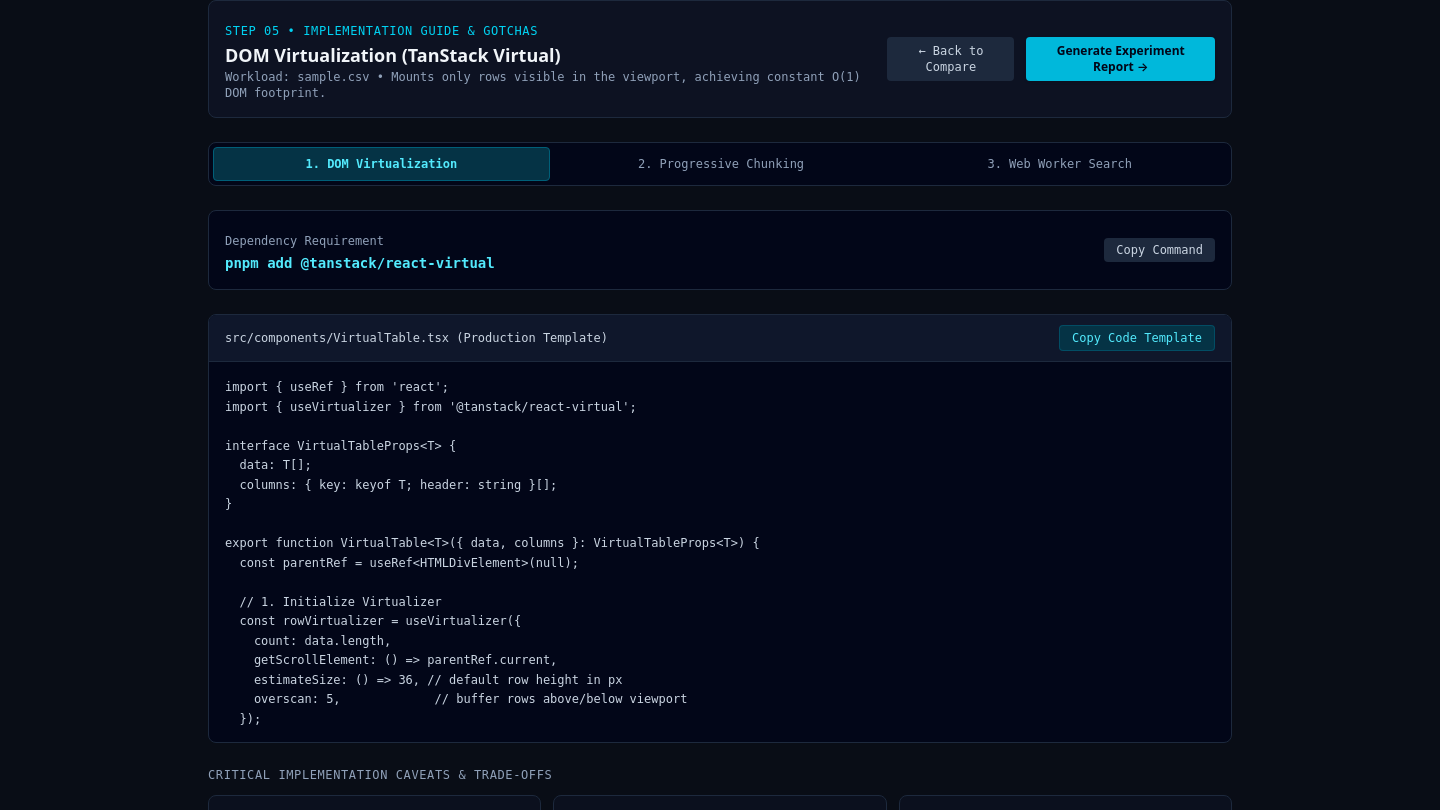
Test: DatasetImplementationGuide › renders copyable code block and gotchas matrix with tab navigation
Check: the heading "DOM Virtualization (TanStack Virtual)" is shown, box left=225, top=43, right=561, bottom=67
Check: the text "pnpm add @tanstack/react-virtual" is shown, box left=225, top=253, right=495, bottom=273
# Switch to Progressive Chunking tab
Click the button "2. Progressive Chunking" at point(721, 164), box left=554, top=147, right=888, bottom=181
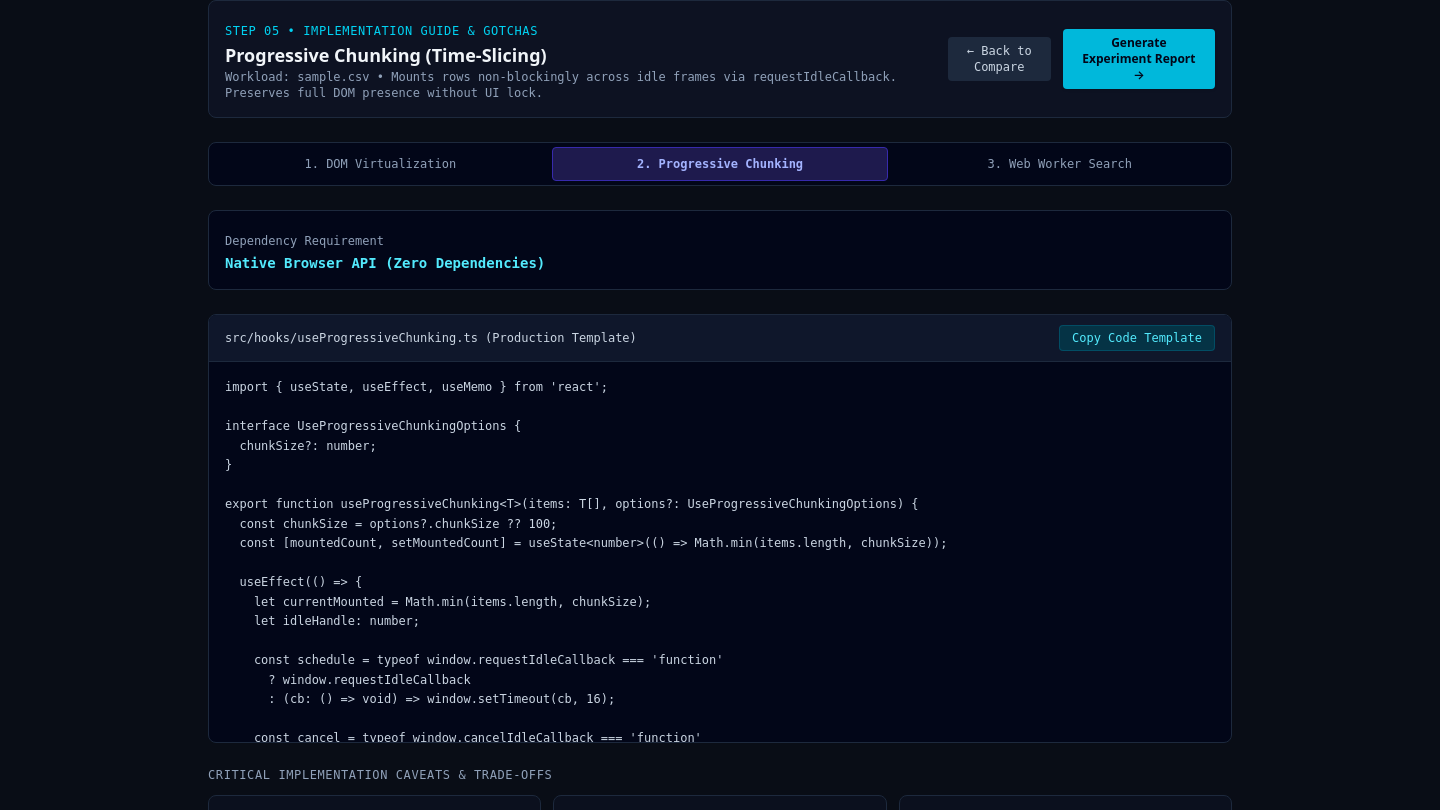
Check: the heading "Progressive Chunking (Time-Slicing)" is shown, box left=225, top=43, right=547, bottom=67
Check: the text "Native Browser API (Zero Dependencies)" is shown, box left=225, top=253, right=545, bottom=273
